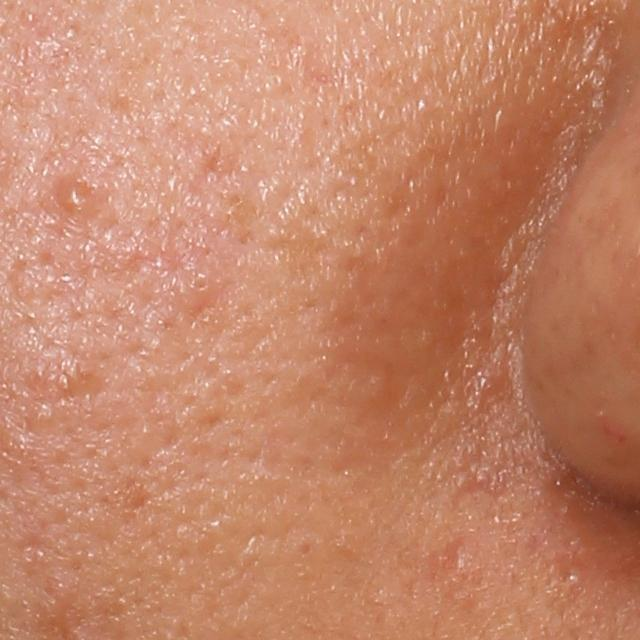comedo: (178, 265, 213, 298)
papule: (52, 169, 105, 222), (442, 538, 469, 574)
